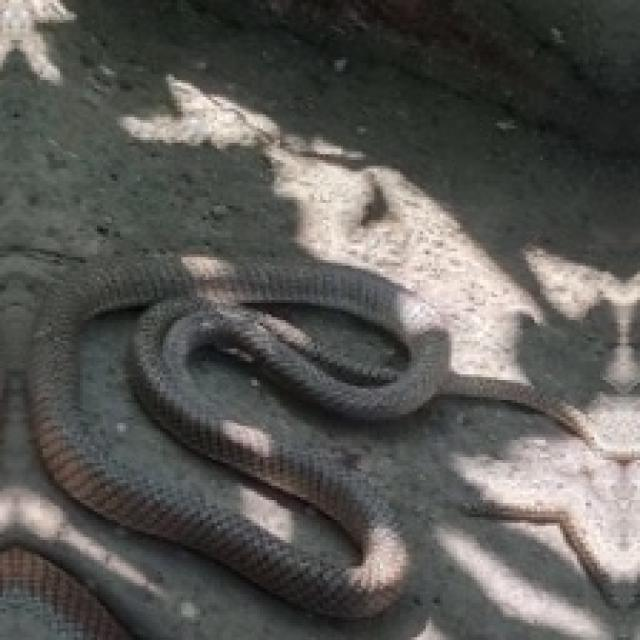paradise tree snake: (20, 257, 400, 614), (0, 420, 360, 637), (231, 266, 389, 314), (360, 560, 431, 637)
